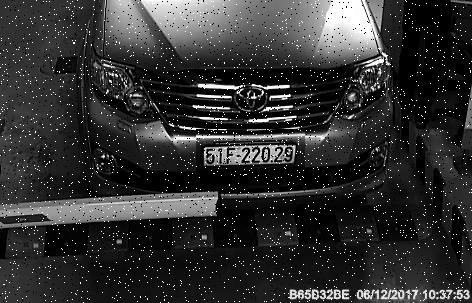License-plate: (197, 131, 306, 178)
